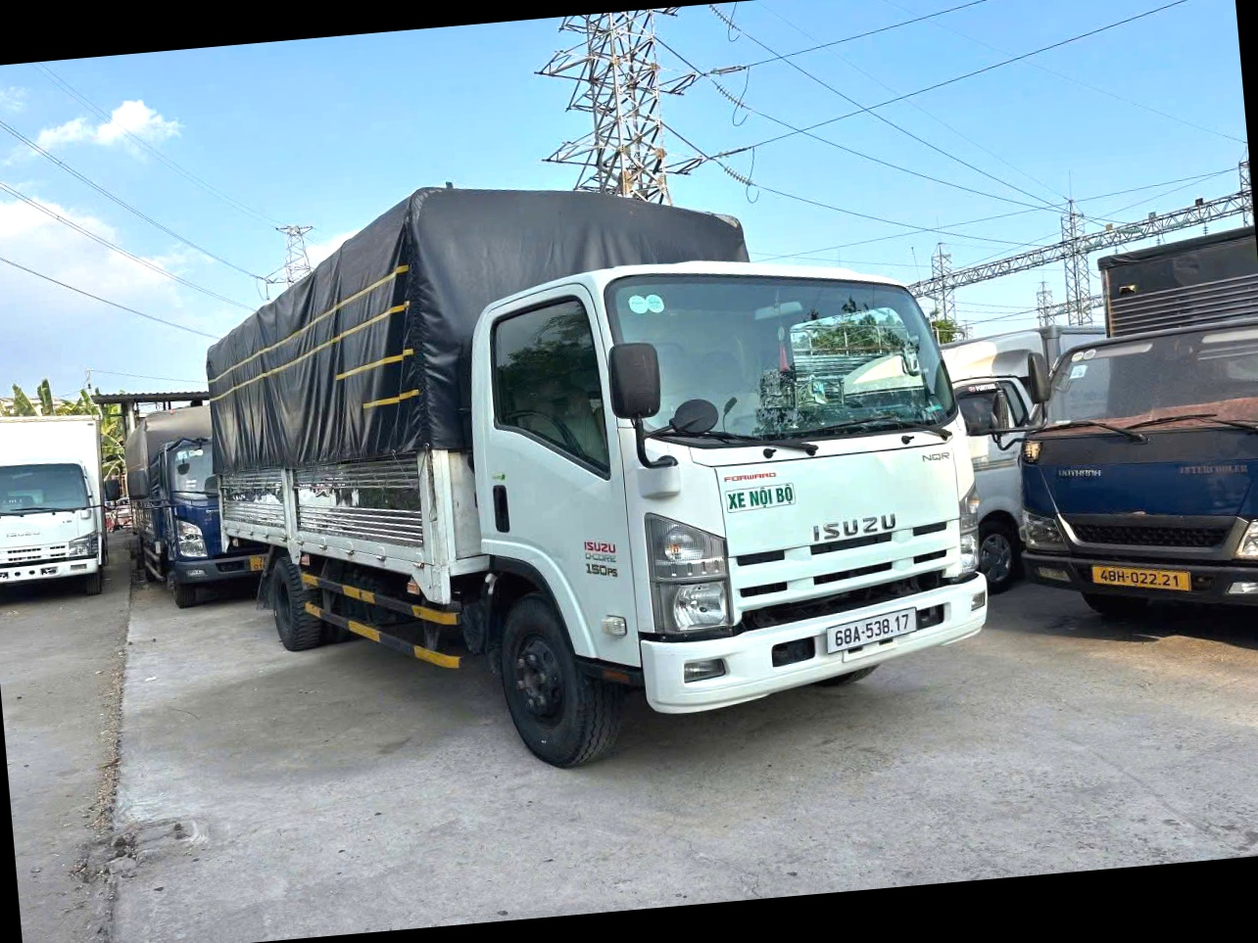Bien-so: (782, 623, 877, 673)
